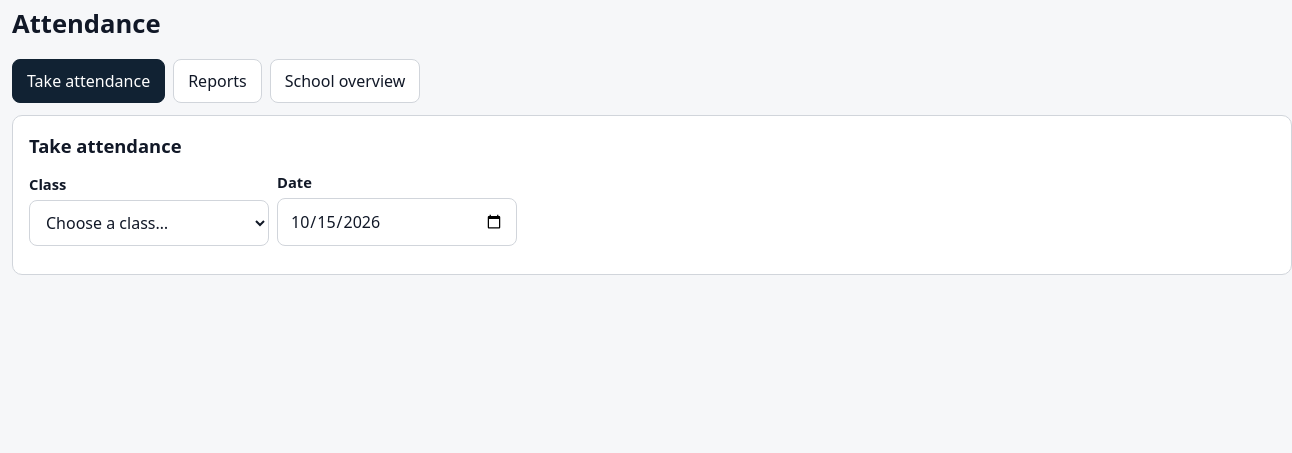
Test: Attendance reports › school overview: per-class totals for a date and which classes have not recorded
Click the button "School overview". click: (345, 81)
box: x1=270 y1=59 x2=420 y2=103
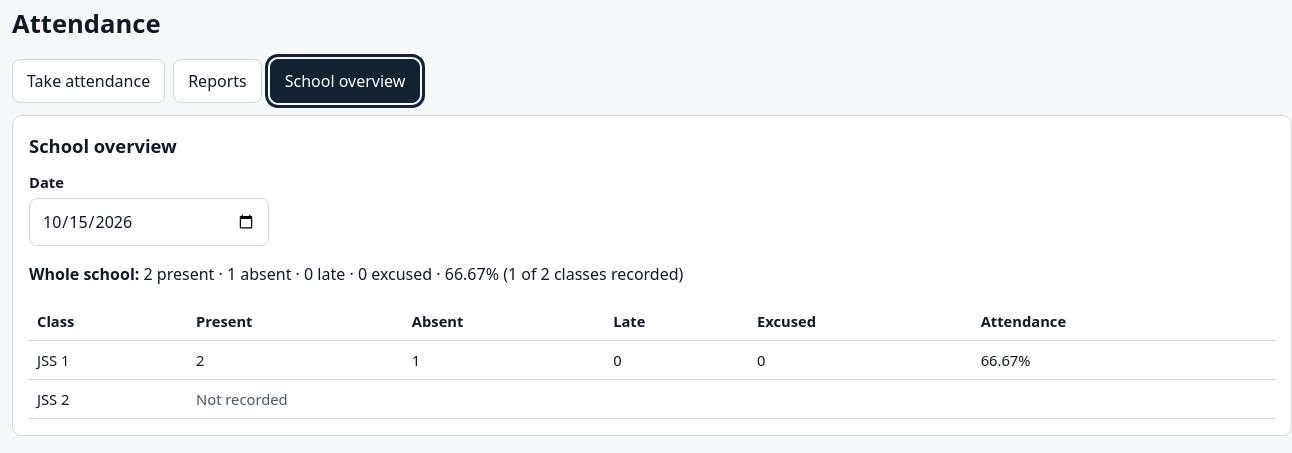
Expected: the text "1 of 2 classes recorded" is shown, x1=29 y1=262 x2=683 y2=284
Expected: the text "JSS 1" shows "66.67%", x1=981 y1=350 x2=1030 y2=370
Expected: the text "JSS 2" shows "Not recorded", x1=196 y1=389 x2=288 y2=409
